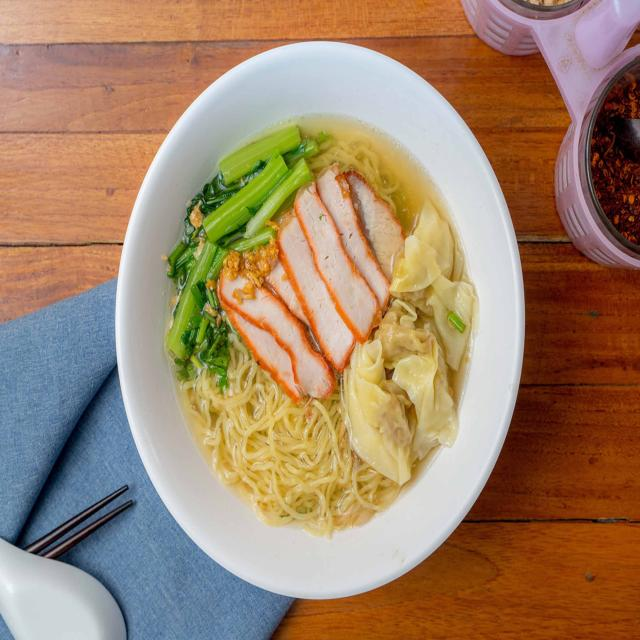Carbohydrate: (172, 120, 469, 528)
Noodle: (121, 42, 527, 594)
Protein: (221, 161, 474, 480)
Vegetable: (162, 124, 322, 394)
